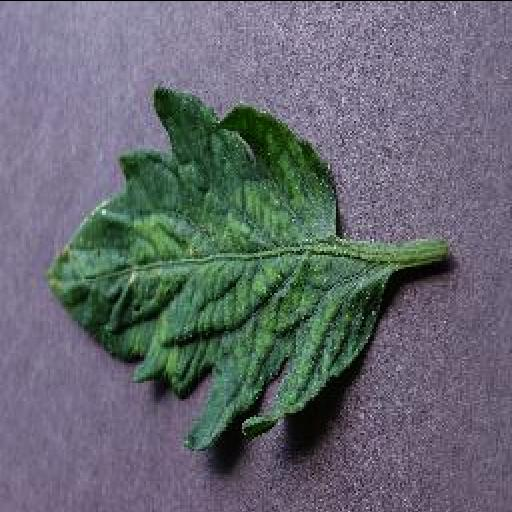disease_tomato: (48, 84, 386, 452)
